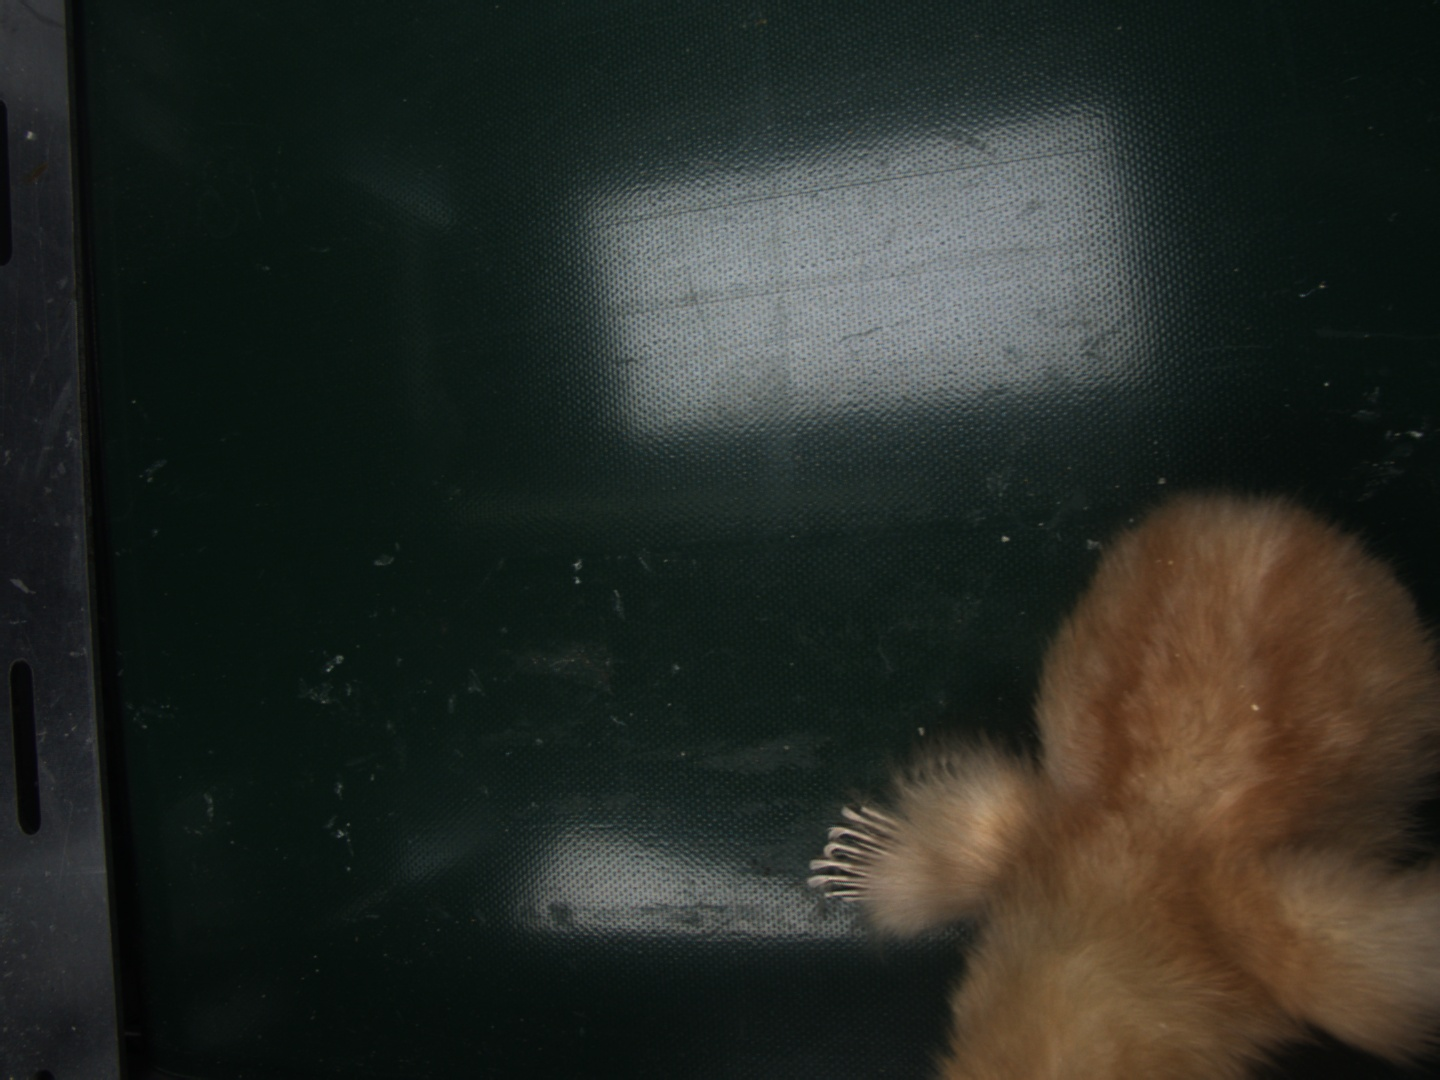female: (811, 805, 912, 904)
